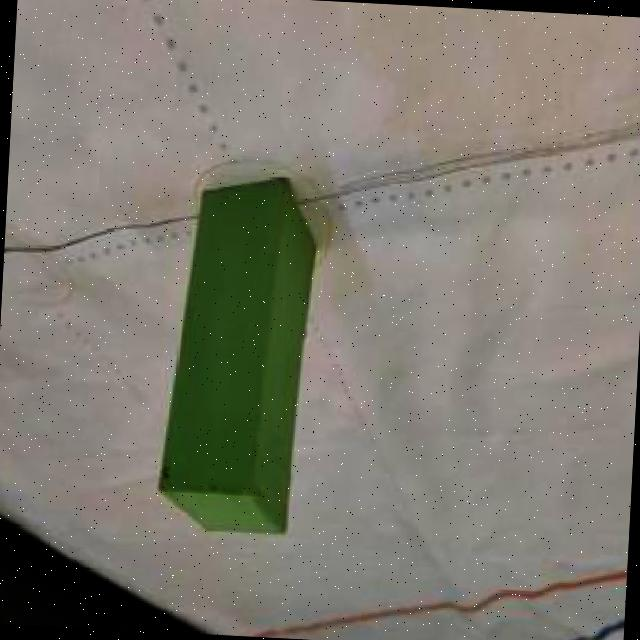greenbox: (151, 173, 321, 540)
